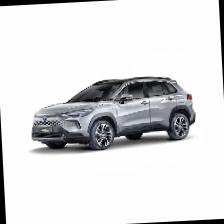NON-EV: (29, 74, 197, 151)
